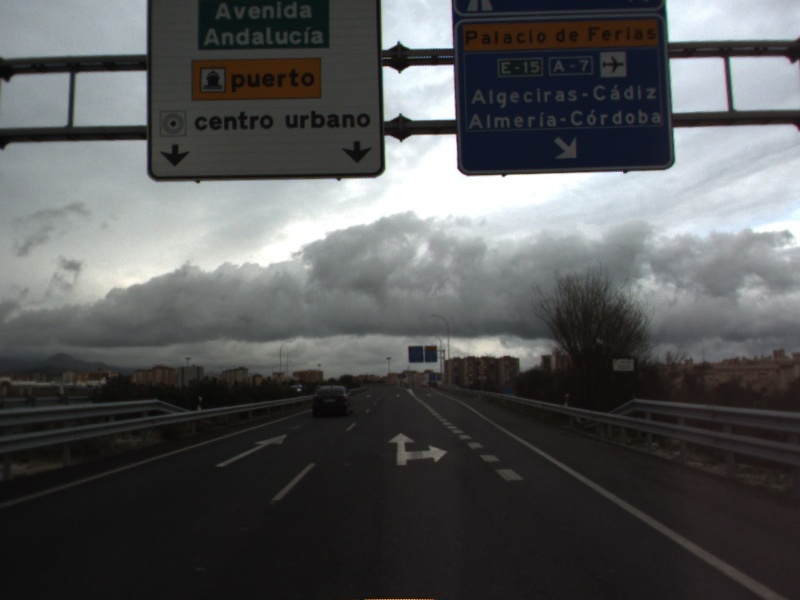STRAIGHT: (213, 432, 289, 468)
STRAIGHT_RIGHT: (386, 431, 450, 467)
